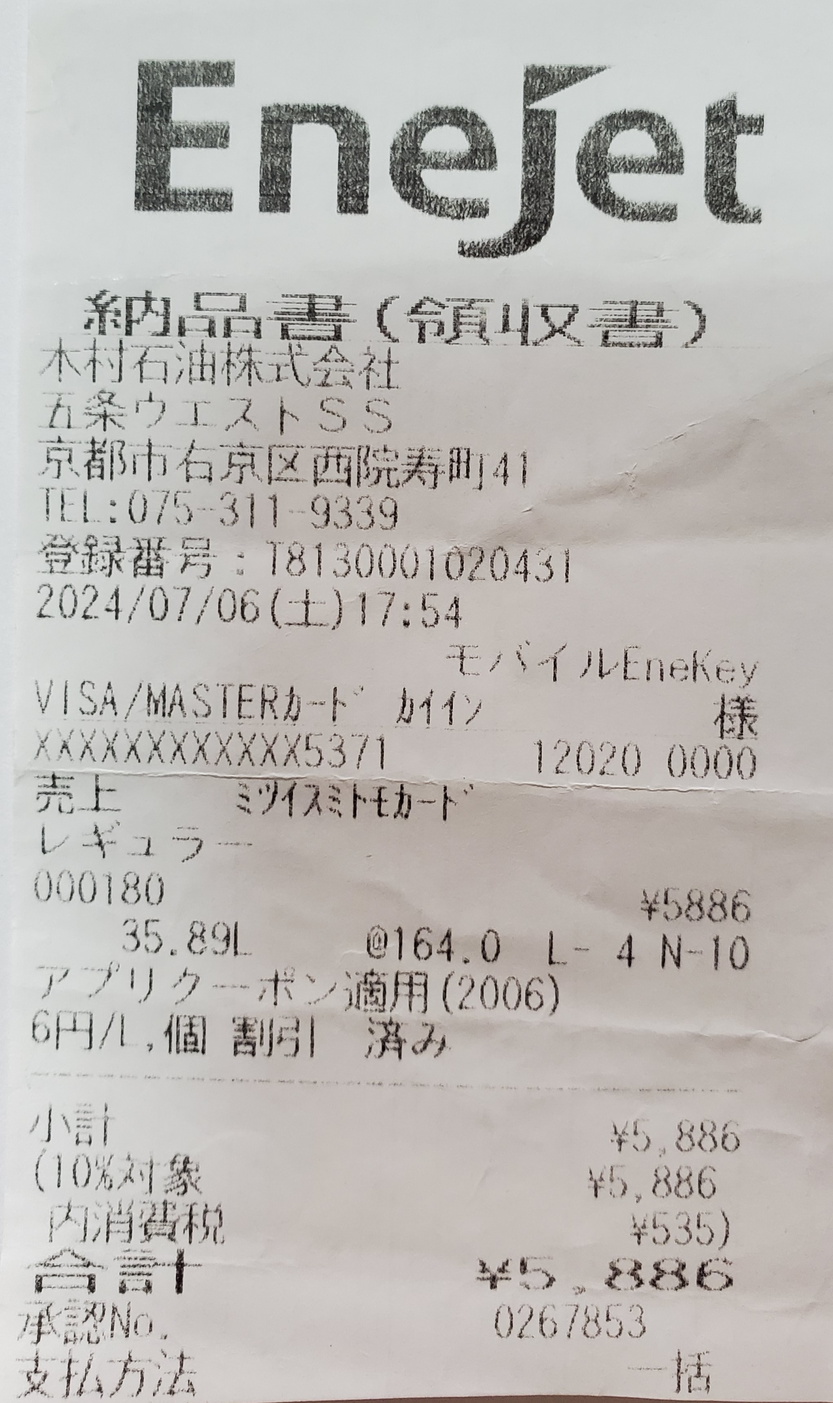Date: (26, 574, 269, 635)
Shopname: (116, 24, 811, 258)
Telnum: (120, 482, 415, 537)
Totalpay: (22, 1247, 756, 1302)
